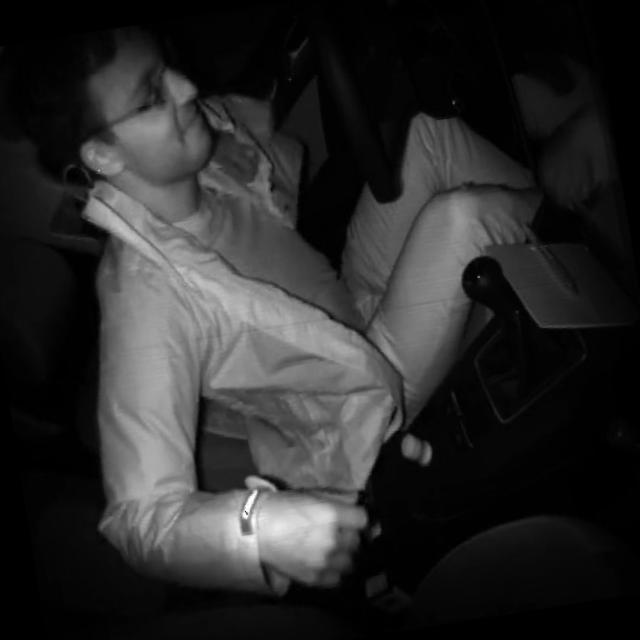pen: (518, 207, 584, 307)
